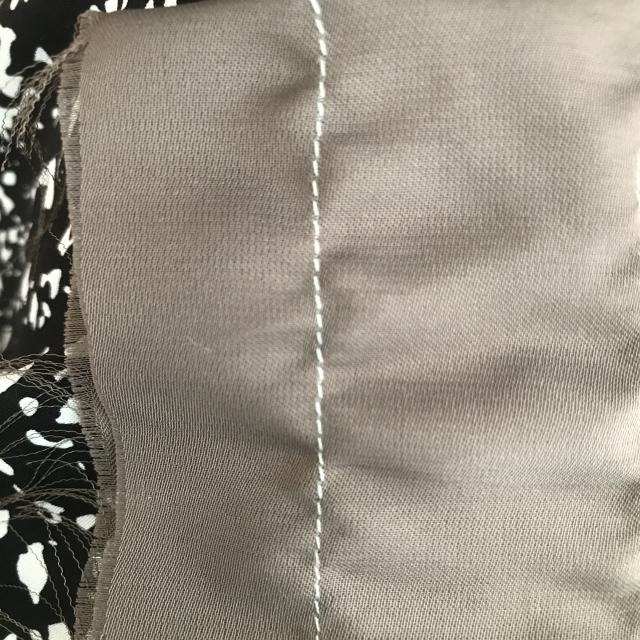good: (280, 475, 348, 602), (297, 272, 353, 423), (286, 133, 347, 249)
